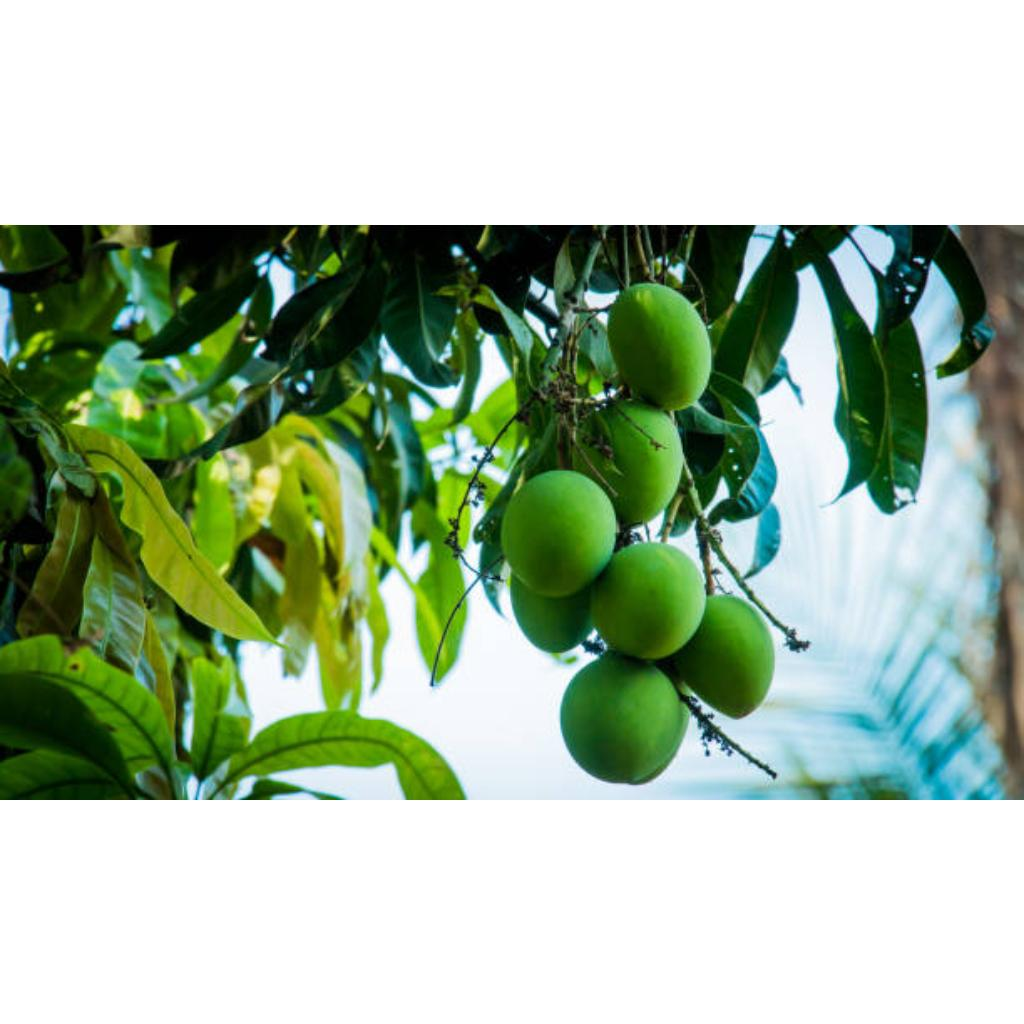mango: (560, 650, 688, 783), (500, 470, 616, 597), (590, 542, 706, 659), (574, 400, 684, 523), (672, 594, 774, 717), (610, 282, 708, 409), (512, 576, 594, 651)
